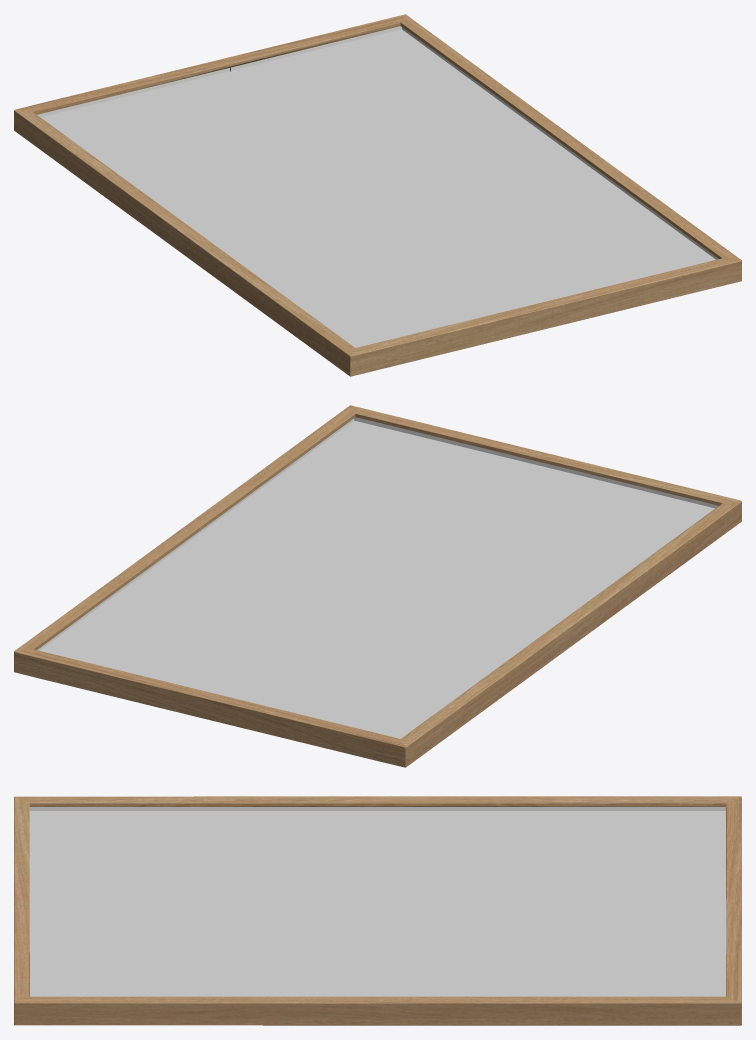
File: LB-ART-01.glb
3 renders of one model, top to bottom at view 1: azimuth 30°, elevation 25°; view 2: azimuth 150°, elevation 25°; view 3: azimuth 270°, elevation 25°, orthographic. The views are drawn at different scales.
Visible parts, largest first — view 1: 20566403-RÃƒâ€“DALM001; view 2: 20566403-RÃƒâ€“DALM001; view 3: 20566403-RÃƒâ€“DALM001.
Part boxes in pixels (x1,y1,x2,y2): 20566403-RÃƒâ€“DALM001: (14,14,741,376); 20566403-RÃƒâ€“DALM001: (14,405,741,767); 20566403-RÃƒâ€“DALM001: (14,796,741,1025).
Size of the model in its own units: 0.627 by 0.0332 by 0.932.
2 materials, 2 textured.
